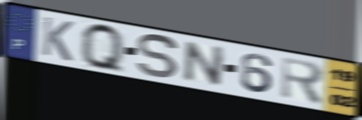6: (240, 52, 275, 95)
K: (40, 14, 76, 64)
N: (181, 40, 228, 88)
Q: (79, 21, 127, 76)
R: (280, 55, 327, 108)
S: (136, 32, 181, 81)
